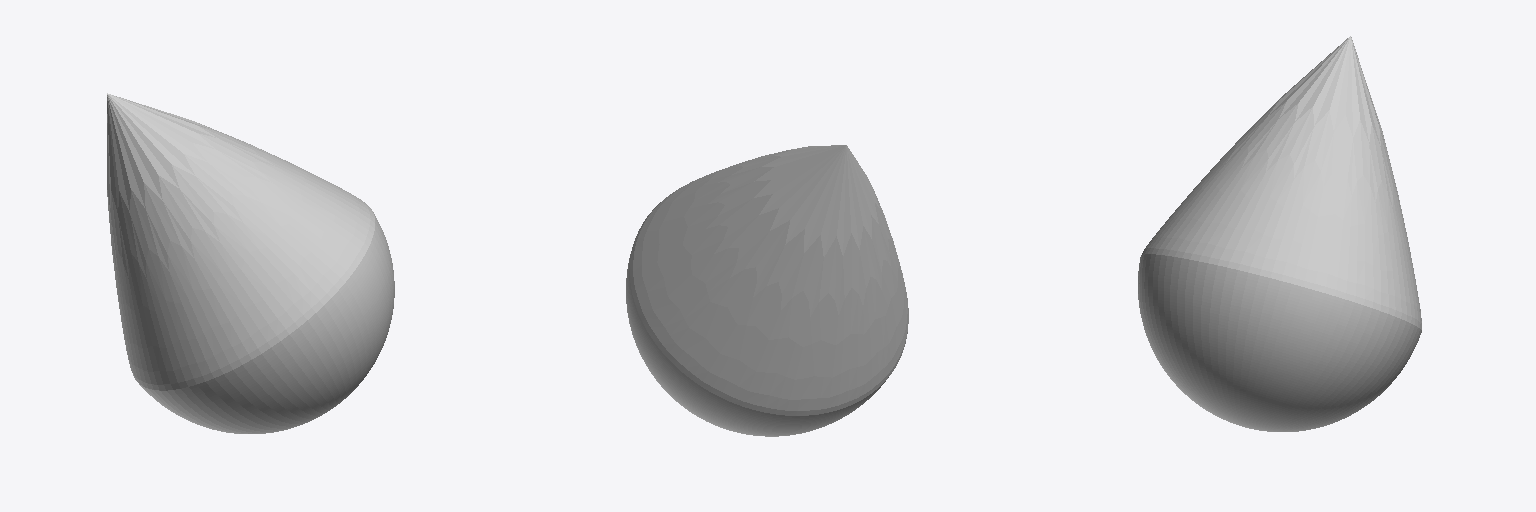
File: E_ear_left.obj
The picture shows the model from 3 angles: view 1: azimuth 30°, elevation 25°; view 2: azimuth 150°, elevation 25°; view 3: azimuth 270°, elevation 25°; orthographic projection.
Visible parts, largest first — view 1: polySurface3 ear_right1; view 2: polySurface3 ear_right1; view 3: polySurface3 ear_right1.
Boxes of the visible parts, x1,y1,x2,y2 form: polySurface3 ear_right1: [107, 93, 394, 433]; polySurface3 ear_right1: [626, 145, 908, 436]; polySurface3 ear_right1: [1138, 36, 1421, 431].
Bounding box in the file's own units: 0.9415 × 1.23 × 0.9584.